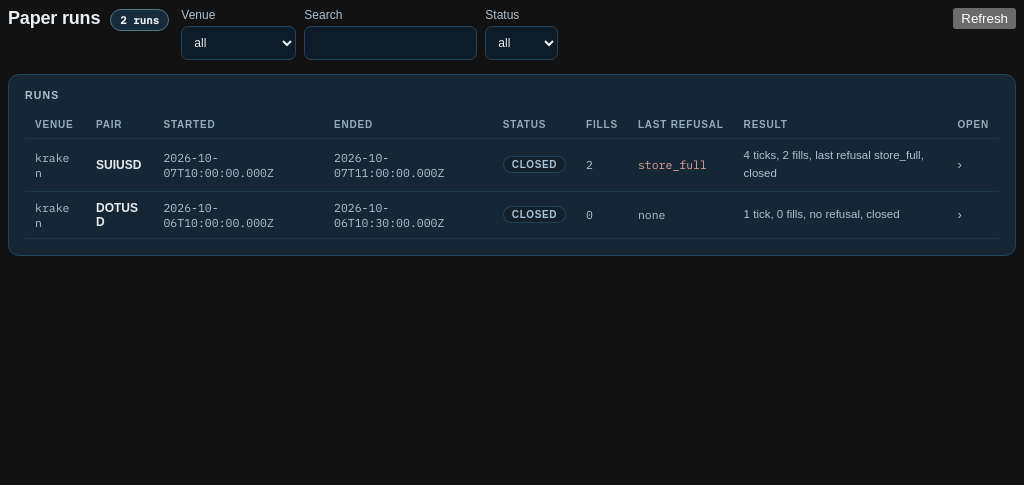
Test case: LastRunsPanel — detail fills table › renders fill coid/side verbatim, the run-level pair, and ISO-local time per fill row
Expected: the table with test id "paper-last-runs-table" is shown, [25, 111, 999, 239]
Click the row with test id "paper-last-runs-row-kraken-SUIUSD" at (512, 165), box [25, 138, 999, 191]
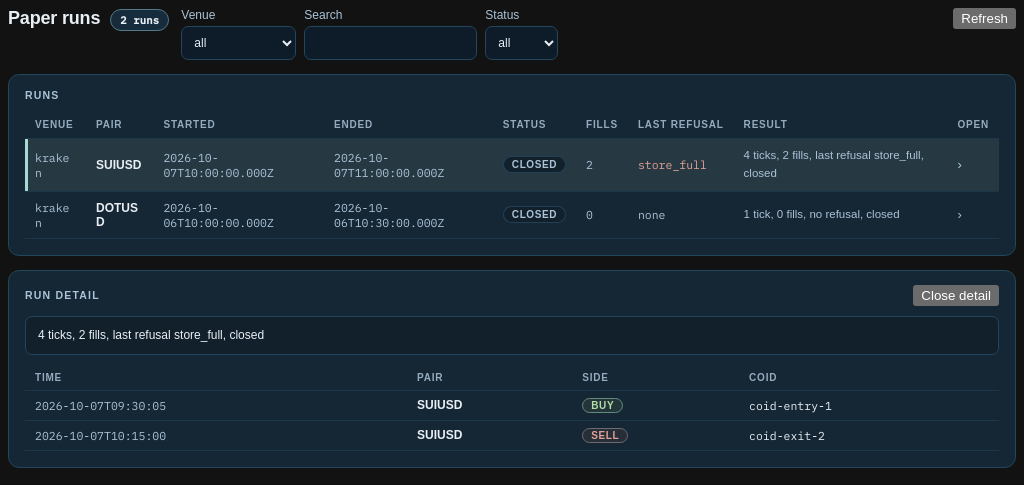
Now the text "coid-entry-1" is shown, box [739, 390, 999, 420]
Now the text "sell" is shown, box [582, 428, 628, 443]
